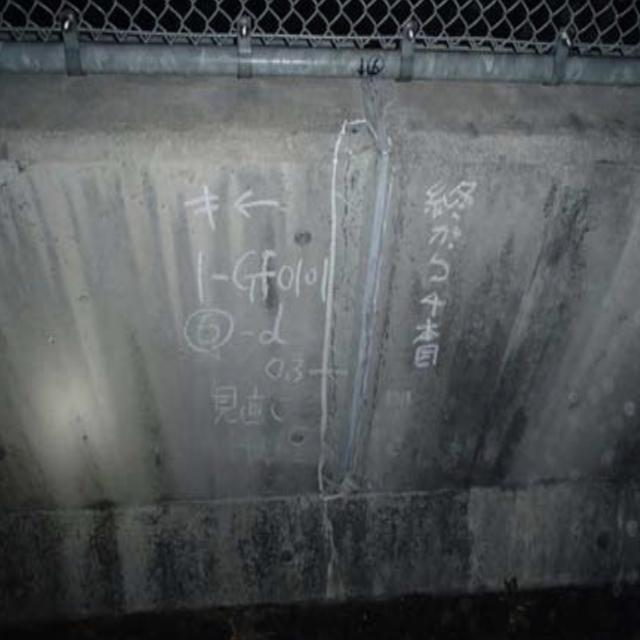crack: (323, 104, 396, 470)
